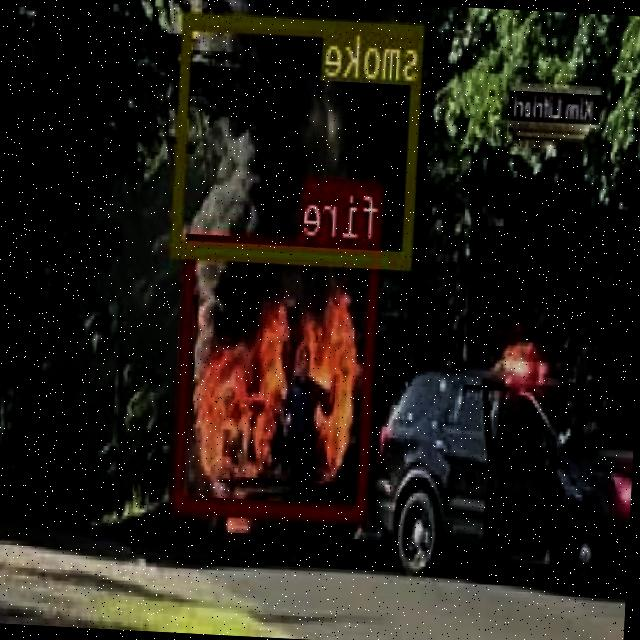fire: (175, 232, 384, 522)
smoke: (175, 9, 426, 264)
